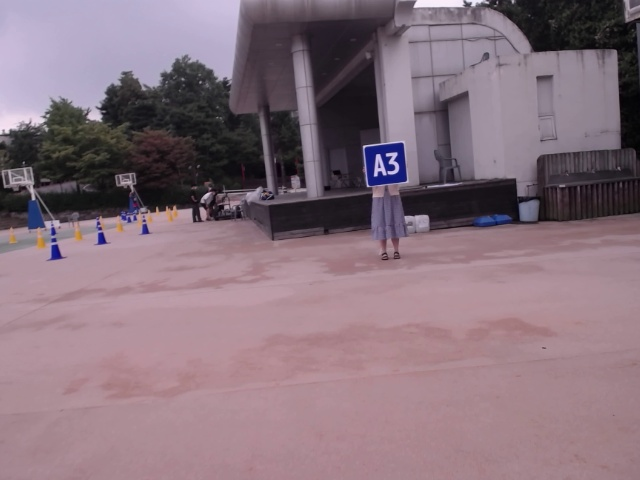delivery_a3: (364, 142, 409, 187)
